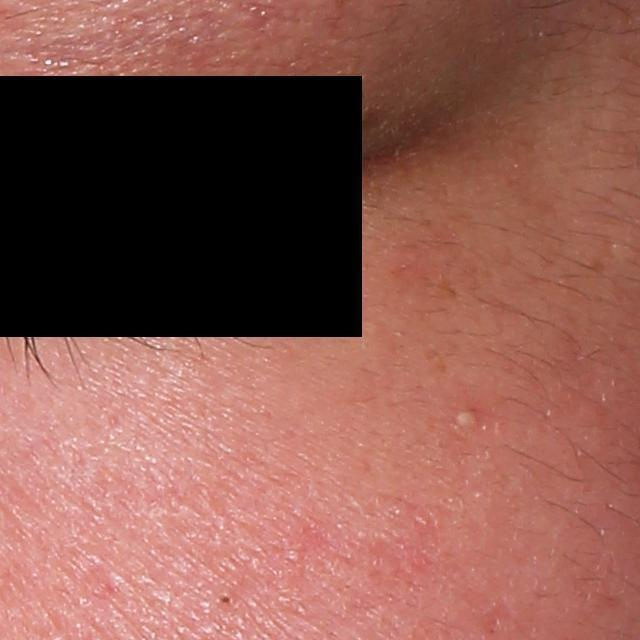comedo: (218, 592, 235, 610)
pustule: (452, 411, 480, 437)
